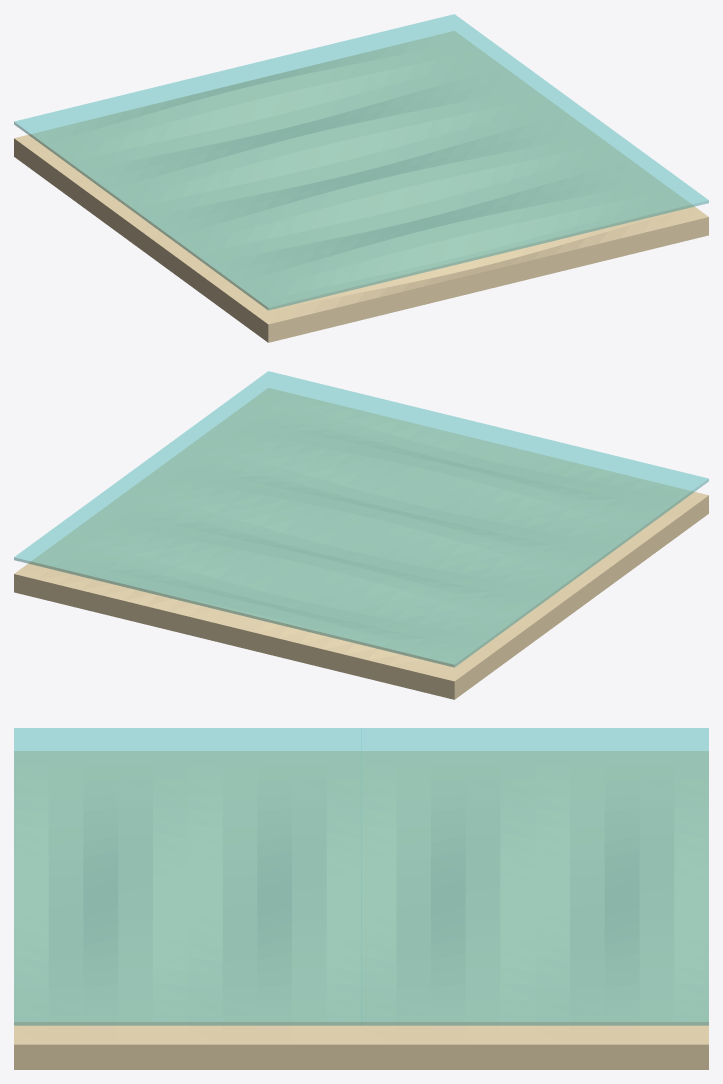
File: shallow_lagoon_tile_tropical_island_and_palm_trees_6859.glb
3 views of the same model, one above another, from view 1: azimuth 30°, elevation 25°; view 2: azimuth 150°, elevation 25°; view 3: azimuth 270°, elevation 25° (orthographic). The views are drawn at different scales.
Parts seen in each view (by area): view 1: lagoon-shallow-tile; view 2: lagoon-shallow-tile; view 3: lagoon-shallow-tile.
Boxes of the visible parts, <box> form: lagoon-shallow-tile: <box>14,14,708,342</box>; lagoon-shallow-tile: <box>14,371,708,699</box>; lagoon-shallow-tile: <box>14,728,708,1069</box>.
Size of the model in its own units: 4 by 0.3048 by 4.
